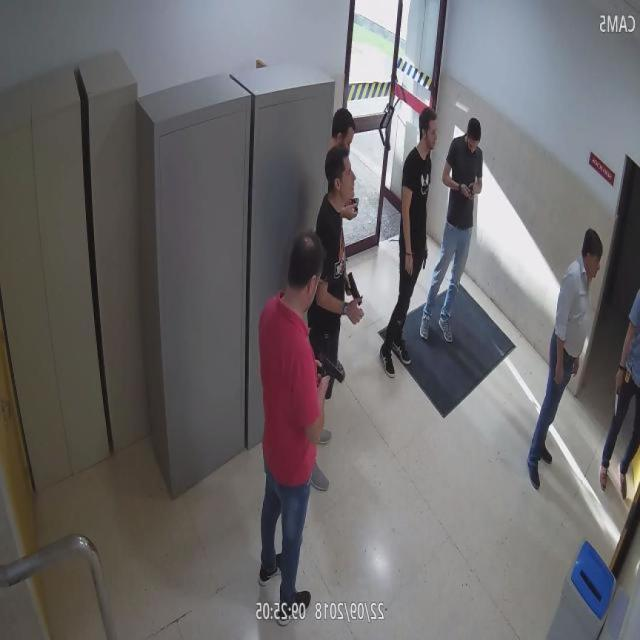pistol: (312, 352, 344, 400), (345, 266, 363, 314), (462, 180, 478, 202), (421, 241, 430, 269), (350, 198, 359, 218)
